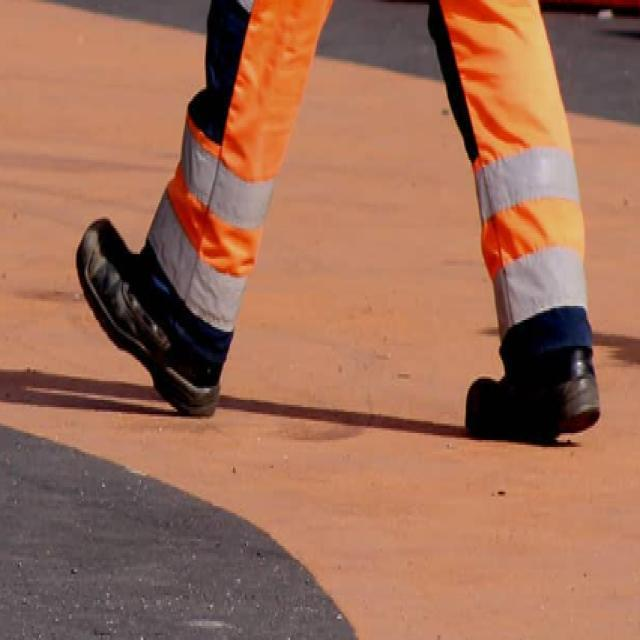boots: (71, 211, 606, 448)
